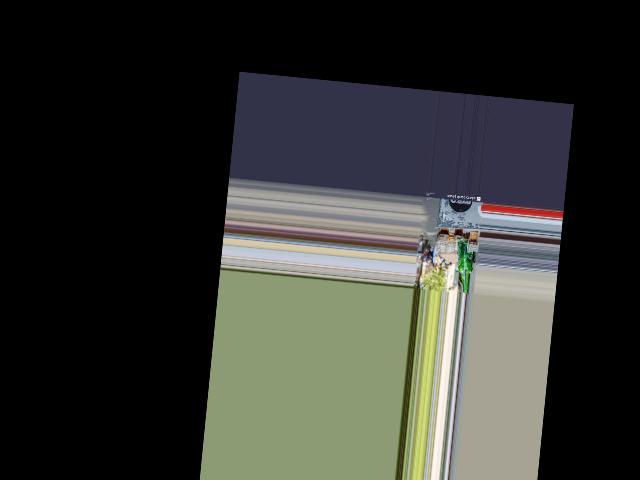beer: (452, 234, 475, 293)
